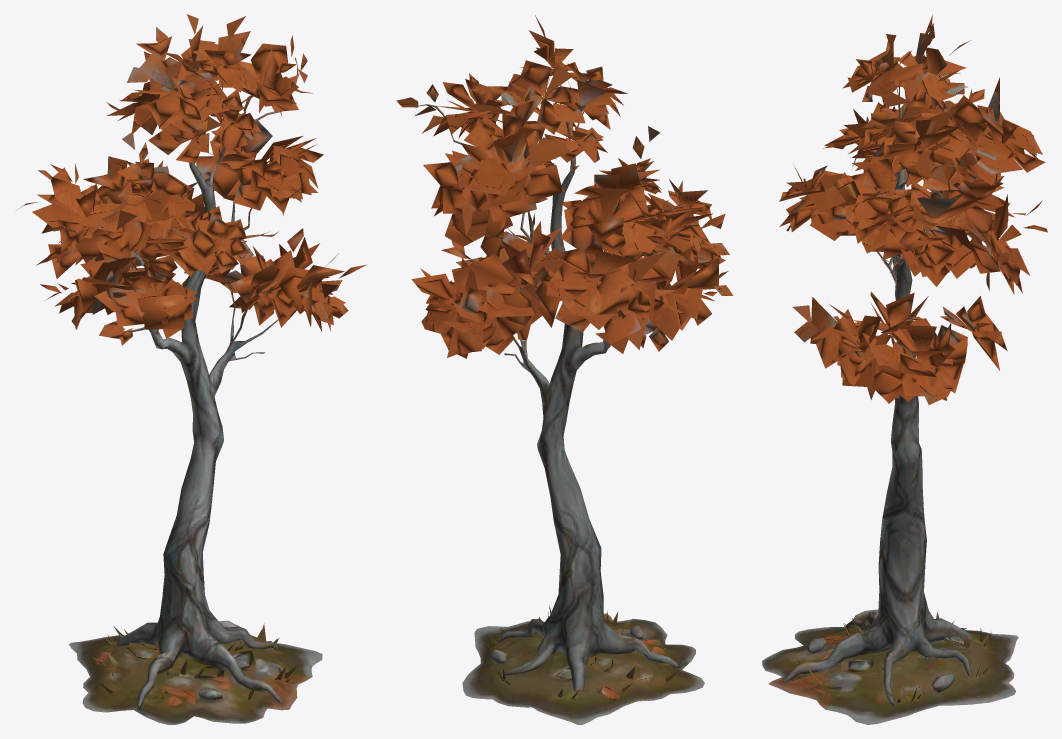
File: ironwood_young.glb
3 views of the same model, side by side, from view 1: azimuth 30°, elevation 25°; view 2: azimuth 150°, elevation 25°; view 3: azimuth 270°, elevation 25° (orthographic). The views are drawn at different scales.
Size of the model in its own units: 0.4717 by 0.9531 by 0.375.
Materials: 1 (1 with a texture image).
